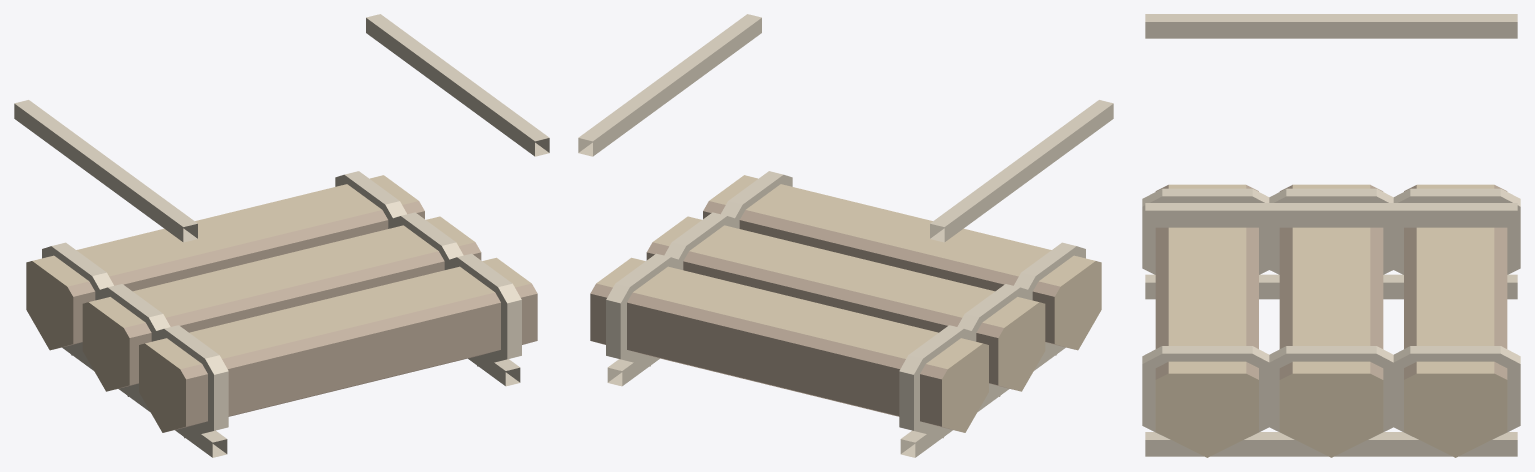
Rendered from Cliff_Prop_Bridge_Rope_Middle.glb.
The picture shows the model from 3 angles, left to right: view 1: azimuth 30°, elevation 25°; view 2: azimuth 150°, elevation 25°; view 3: azimuth 270°, elevation 25°; orthographic projection. The views are drawn at different scales.
Parts seen in each view (by area): view 1: Cliff_Prop_Bridge_Rope_Middle; view 2: Cliff_Prop_Bridge_Rope_Middle; view 3: Cliff_Prop_Bridge_Rope_Middle.
Boxes of the visible parts, box(x1,y1,x2,y2) form: Cliff_Prop_Bridge_Rope_Middle: box(14, 14, 549, 457); Cliff_Prop_Bridge_Rope_Middle: box(578, 14, 1113, 457); Cliff_Prop_Bridge_Rope_Middle: box(1142, 14, 1520, 457).
Bounding box in the file's own units: 0.6625 × 0.4128 × 0.5388.
